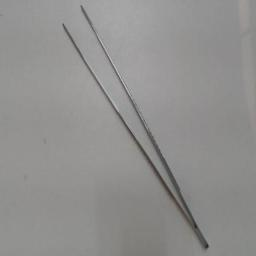DeBakey Dissector: (56, 2, 216, 250)
